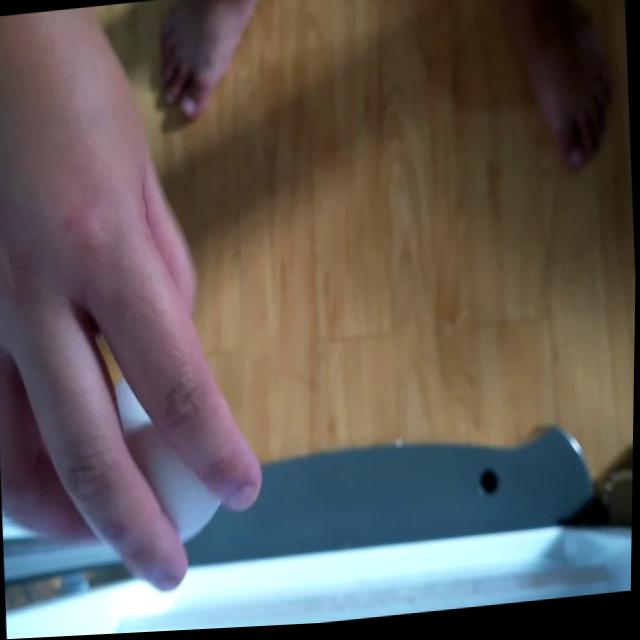egg: (105, 368, 235, 549)
